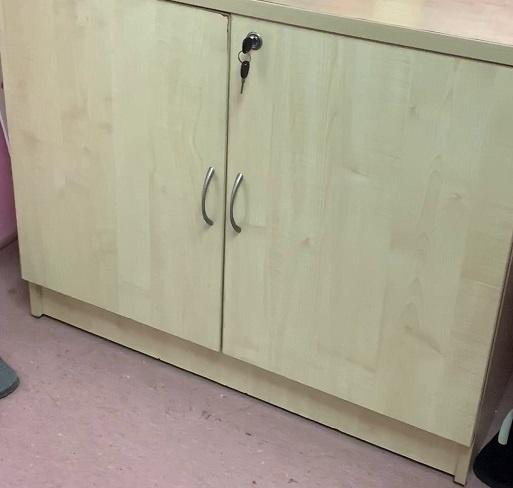cabinet_door: (227, 37, 513, 399), (9, 5, 227, 320)
handle: (200, 164, 218, 229), (228, 170, 245, 236)
